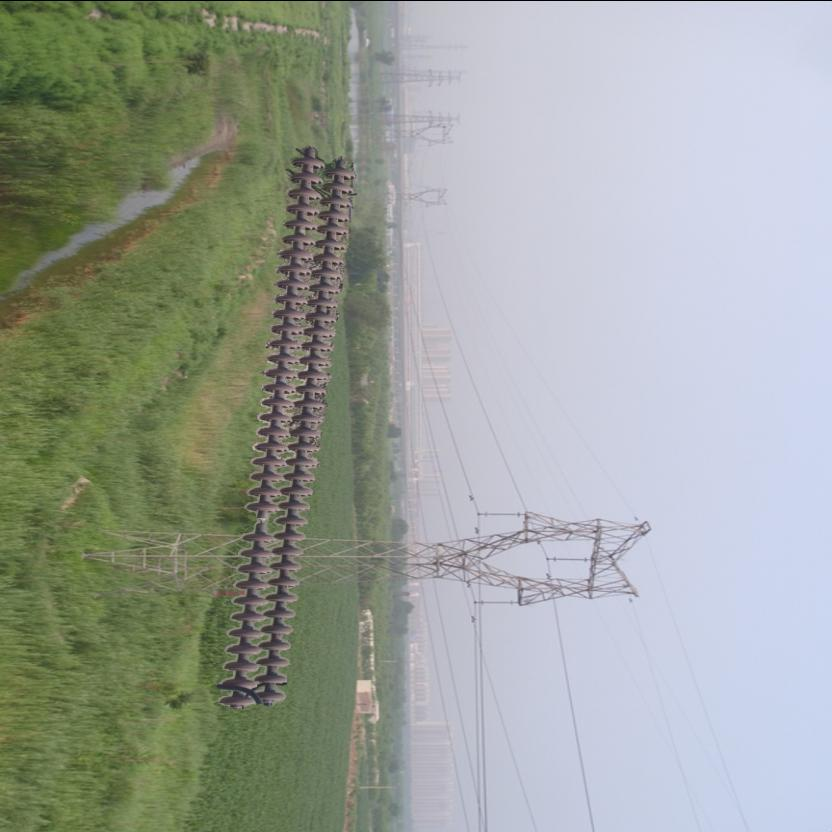defect: (243, 493, 285, 548)
